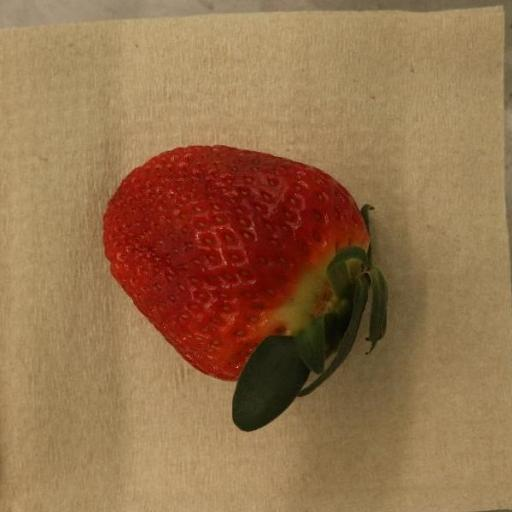Strawberry: (105, 146, 392, 434)
